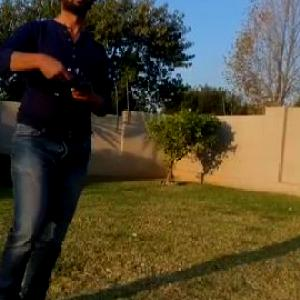follow: (0, 0, 112, 299)
